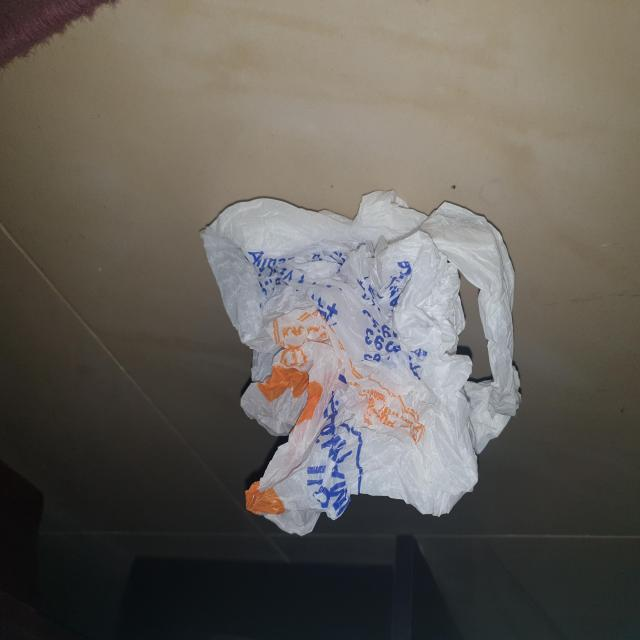plastic bag: (198, 186, 526, 537)
